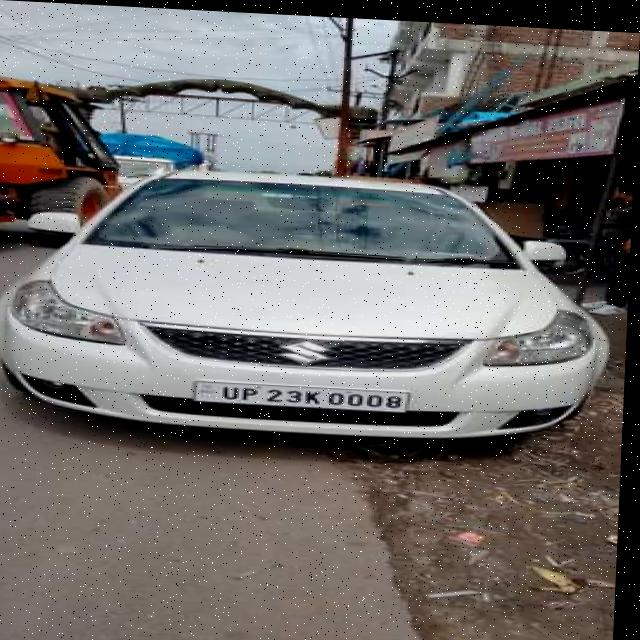plate: (196, 377, 414, 409)
